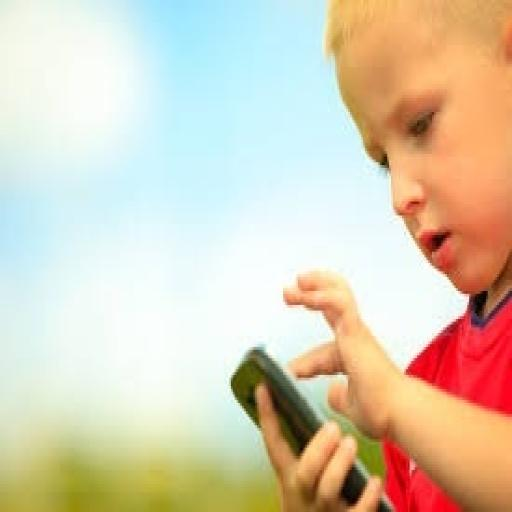texting: (251, 0, 510, 509)
